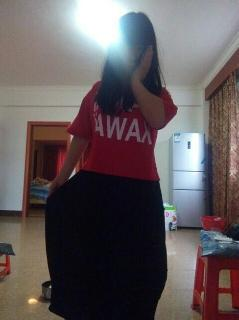short sleeve top: (67, 76, 179, 180)
skirt: (45, 162, 168, 319)
